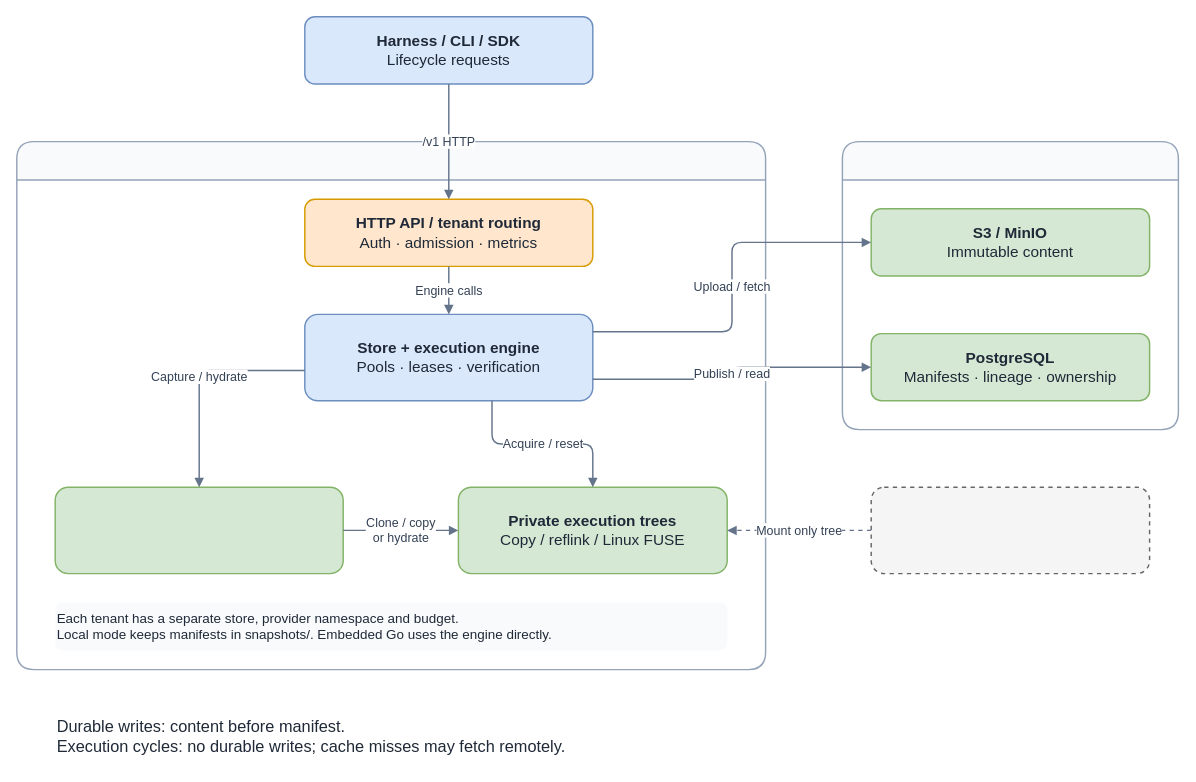
This 1196x782 diagram has some shape labels left out. Here are the shapes that lost their labels. From the top down, the box of each, then its label:
(841, 140, 1179, 430): Remote durability (optional pair)
(16, 140, 766, 670): Worker process — one tenant shown
(54, 486, 343, 574): Immutable files + Git packs Authoritative or bounded cache
(870, 486, 1150, 574): Caller-owned runtime Processes · mounts · isolation
